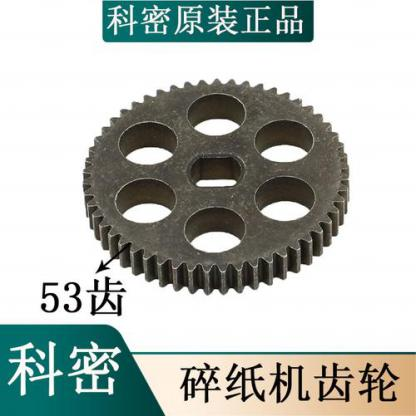FOD: (76, 78, 354, 296)
